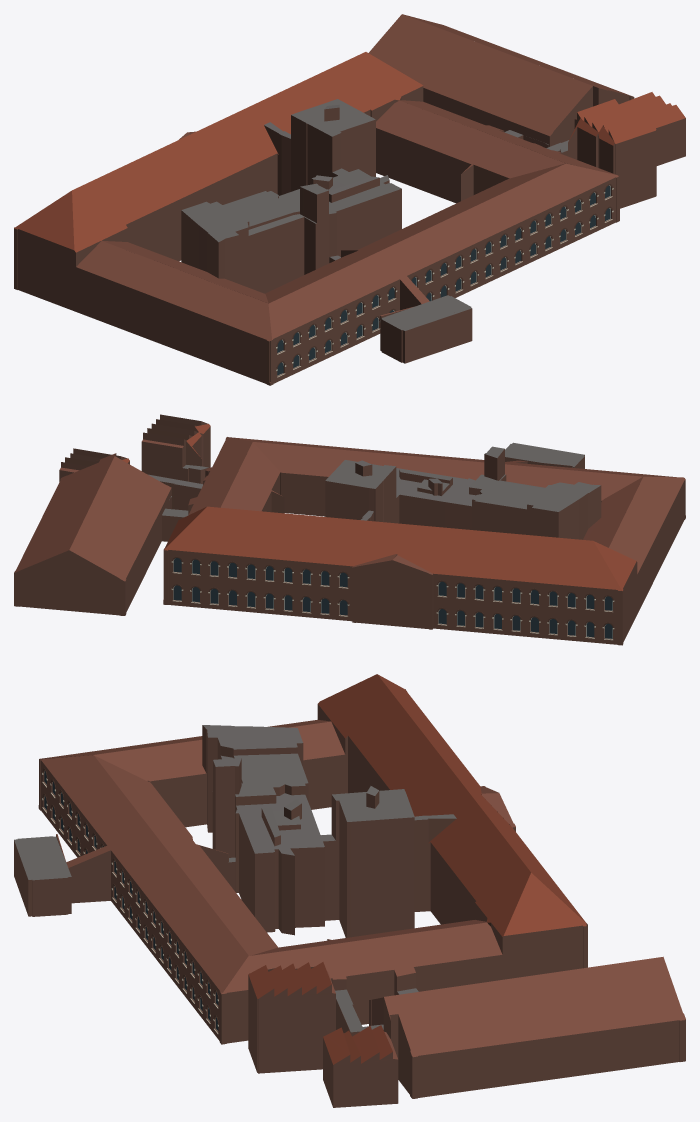
Rendered from recipe-large-rijksakademie.glb.
3 views of the same model, one above another, from view 1: azimuth 30°, elevation 25°; view 2: azimuth 150°, elevation 25°; view 3: azimuth 270°, elevation 25° (orthographic). The views are drawn at different scales.
Parts seen in each view (by area): view 1: rijksakademie; view 2: rijksakademie; view 3: rijksakademie.
Boxes of the visible parts, x1=… form: rijksakademie: x1=14, y1=14, x2=685, y2=385; rijksakademie: x1=14, y1=414, x2=685, y2=645; rijksakademie: x1=14, y1=674, x2=685, y2=1107.
Size of the model in its own units: 121 by 21.44 by 97.93.
